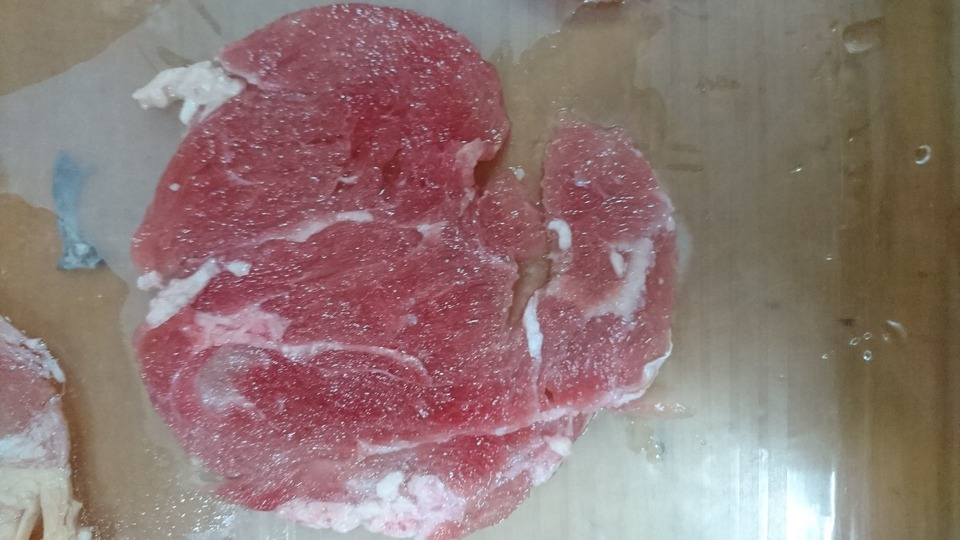restructured meat: (90, 4, 700, 521)
